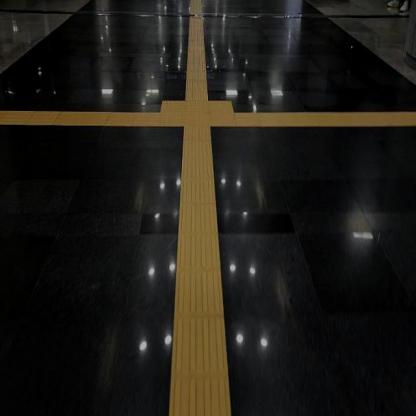podotacti: (167, 130, 229, 416), (144, 78, 248, 153), (235, 110, 416, 128), (184, 0, 209, 100), (0, 112, 160, 125)
